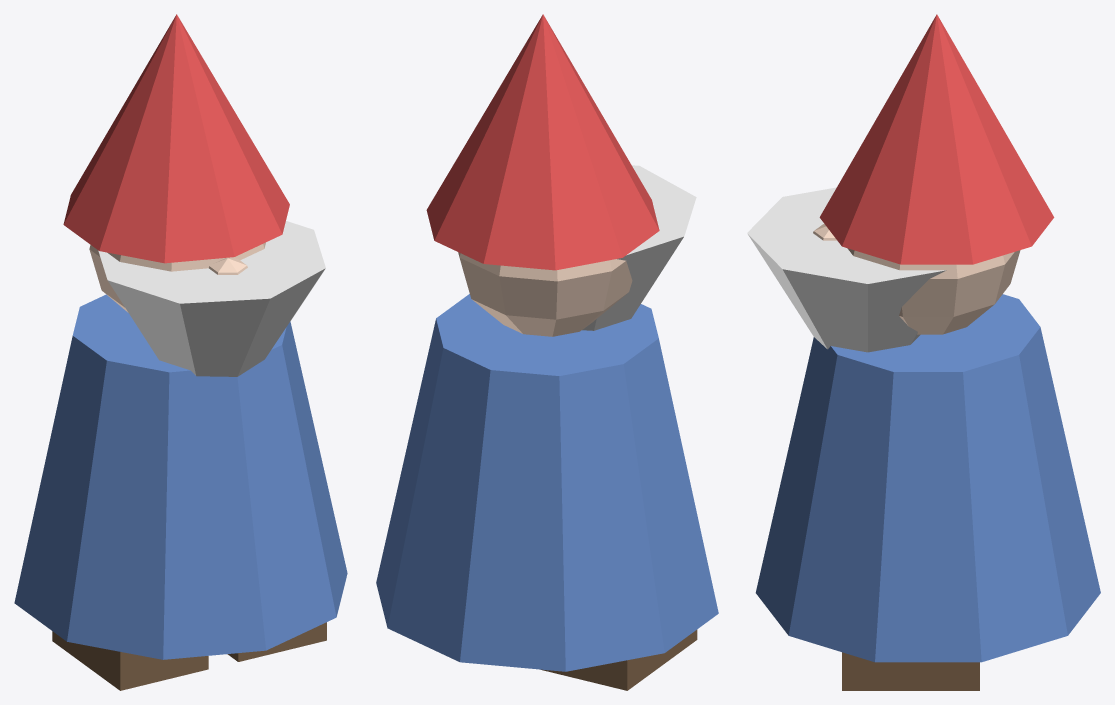
File: SM_Backyard_Gnome.fbx
The picture shows the model from 3 angles, left to right: view 1: azimuth 30°, elevation 25°; view 2: azimuth 150°, elevation 25°; view 3: azimuth 270°, elevation 25°; orthographic projection. The views are drawn at different scales.
Parts seen in each view (by area): view 1: SM_Backyard_Gnome; view 2: SM_Backyard_Gnome; view 3: SM_Backyard_Gnome.
Part boxes in pixels (bbox=[...]): SM_Backyard_Gnome: bbox=[14, 14, 347, 690]; SM_Backyard_Gnome: bbox=[376, 14, 718, 690]; SM_Backyard_Gnome: bbox=[747, 14, 1100, 690].
Size of the model in its own units: 19.02 by 20.5 by 40.
